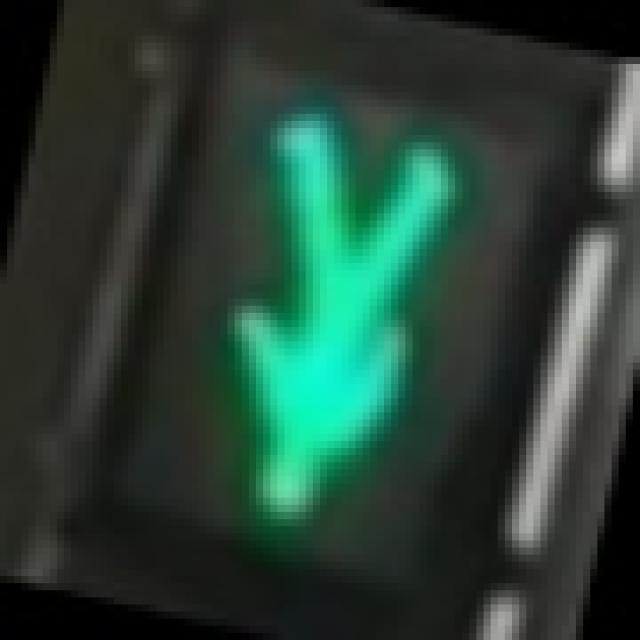green_light: (150, 78, 470, 548)
